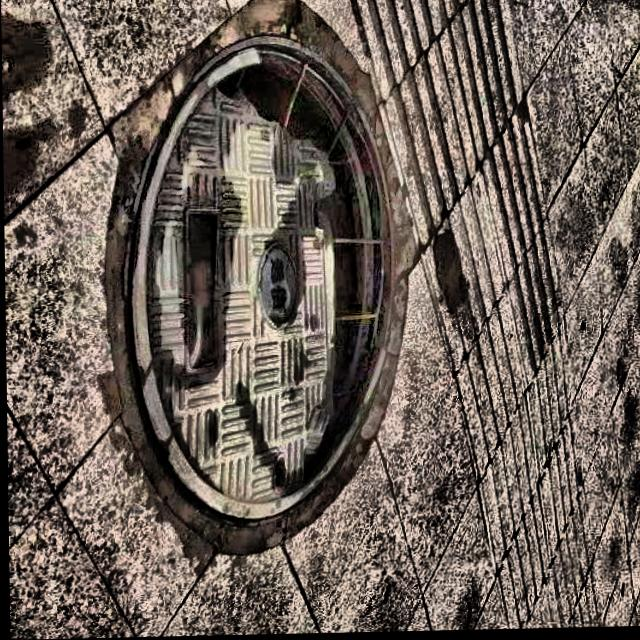open_manhole: (108, 0, 406, 555)
